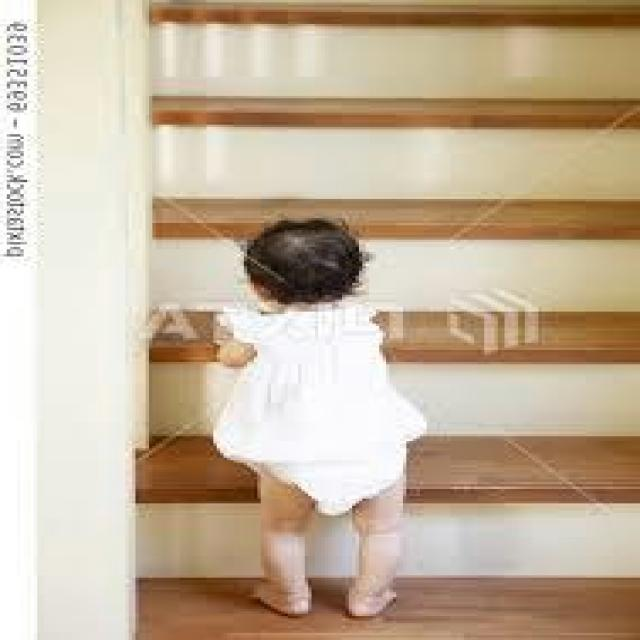child: (190, 213, 457, 621)
